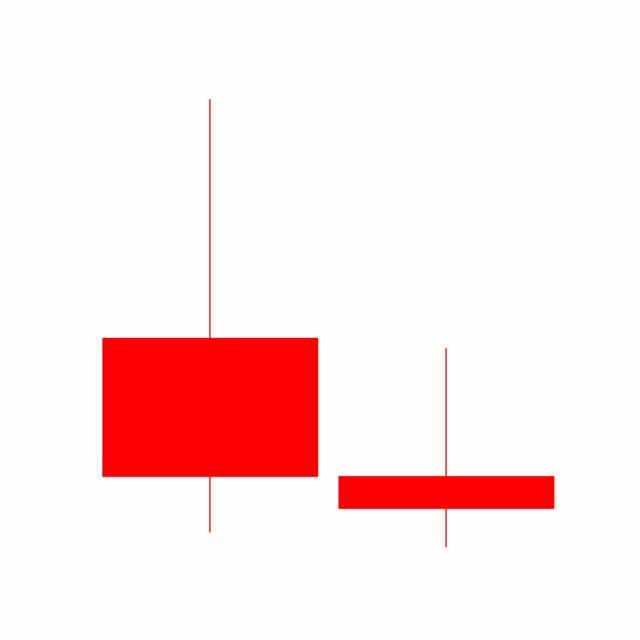Spinning Top: (328, 346, 566, 550)
